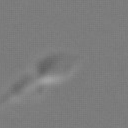abnormal: (1, 74, 42, 119)
